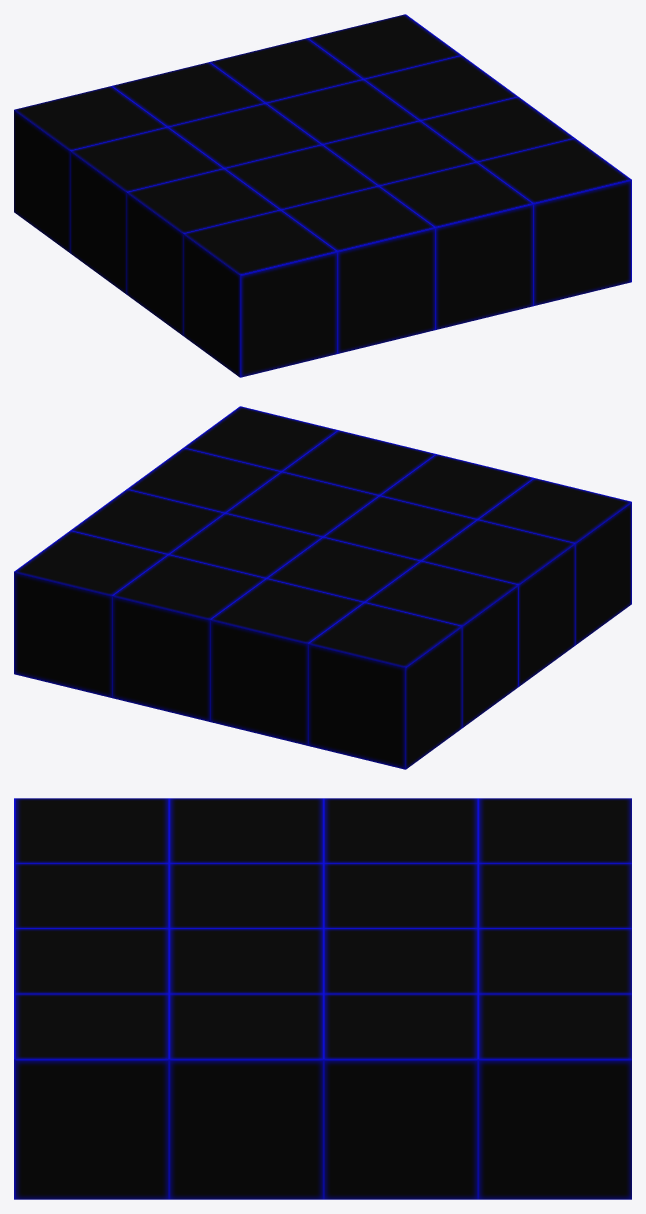
3 views of the same model, one above another, from view 1: azimuth 30°, elevation 25°; view 2: azimuth 150°, elevation 25°; view 3: azimuth 270°, elevation 25° (orthographic). The views are drawn at different scales.
Visible parts, largest first — view 1: Box001; view 2: Box001; view 3: Box001.
Boxes of the visible parts, left/top/right/bottom form: Box001: left=14, top=14, right=631, bottom=377; Box001: left=14, top=406, right=631, bottom=769; Box001: left=14, top=798, right=631, bottom=1199.
Size of the model in its own units: 4 by 1 by 4.
1 material, 1 textured.
